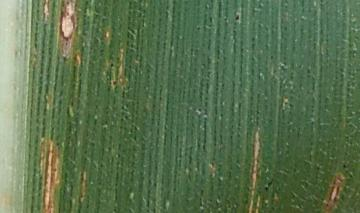tarspot: (231, 12, 243, 23)
